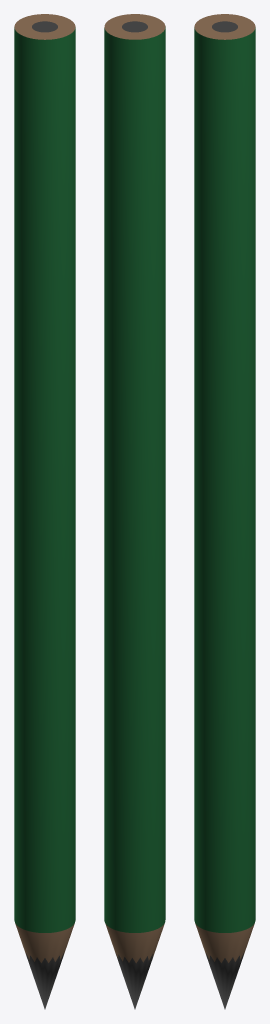
File: oluwek.fbx
3 renders of one model, left to right at view 1: azimuth 90°, elevation 25°; view 2: azimuth 150°, elevation 25°; view 3: azimuth 270°, elevation 25°, orthographic.
Parts seen in each view (by area): view 1: Cylinder; view 2: Cylinder; view 3: Cylinder.
Part boxes in pixels (x1=…): Cylinder: x1=14, y1=14, x2=75, y2=1009; Cylinder: x1=104, y1=14, x2=165, y2=1009; Cylinder: x1=194, y1=14, x2=255, y2=1009.
Size of the model in its own units: 57.77 by 1023 by 57.77.
